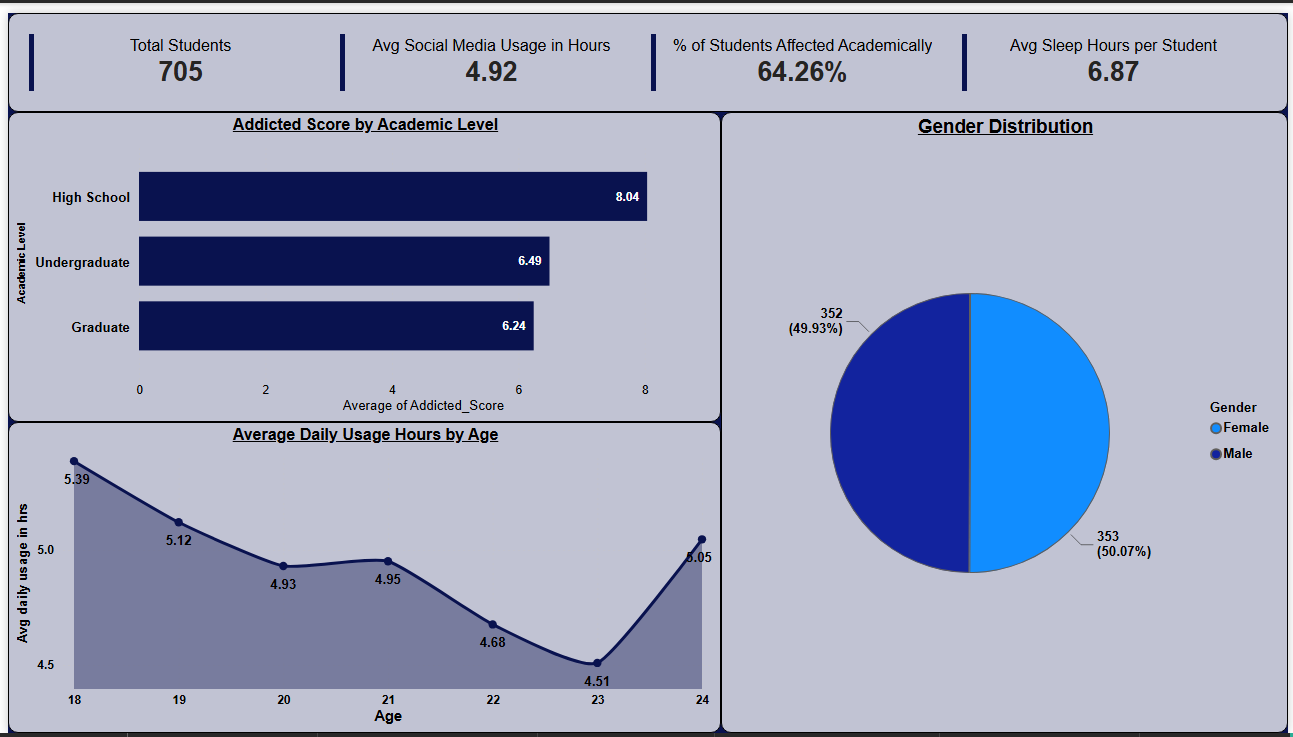

The dashboard page shown, as its layout file describes it:
{"tool":"powerbi","page":{"name":"Page 1 : Executive Overview","canvas":[1280,720],"ordinal":0},"visuals":[{"type":"cardVisual","fields":{"Data":["CountNonNull(Student Details.Student_ID)","Measures Table.Avg Usage Hours","Measures Table.% Affected Academically","Measures Table.Avg Sleep Hours"]},"box":[0,0,1280,99.4],"z":0},{"type":"barChart","title":"Addicted Score by Academic Level","fields":{"Category":["Student Details.Academic_Level"],"Y":["Avg(Student Details.Addicted_Score)"]},"box":[0,99.4,712.7,309.8],"z":1000},{"type":"lineChart","title":"Average Daily Usage Hours by Age","fields":{"Category":["Student Details.Age"],"Y":["Avg(Platform Details.Avg_Daily_Usage_Hours)"]},"box":[0,409.2,712.7,311.1],"z":2000},{"type":"pieChart","title":"Gender Distribution ","fields":{"Category":["Student Details.Gender"],"Y":["CountNonNull(Platform Details.Student_ID)"]},"box":[712.7,99.4,567.3,620.9],"z":3000}]}

Visuals, with their boxes in screenshot pixels (x1, y1, x2, y2), scaled from the page's 1280x720 canvas onto the 1293x737 screenshot:
cardVisual - CountNonNull(Student Details.Student_ID) x Measures Table.Avg Usage Hours: (0,0,1292,102)
"Addicted Score by Academic Level" barChart: (0,102,720,419)
"Average Daily Usage Hours by Age" lineChart: (0,419,720,736)
"Gender Distribution " pieChart: (720,102,1292,736)
